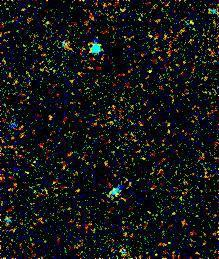star: (142, 52, 172, 82)
